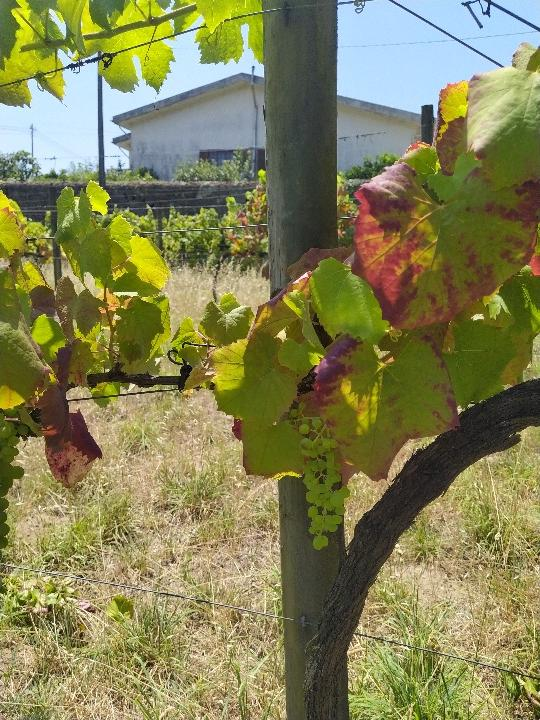grape: (294, 400, 352, 551)
